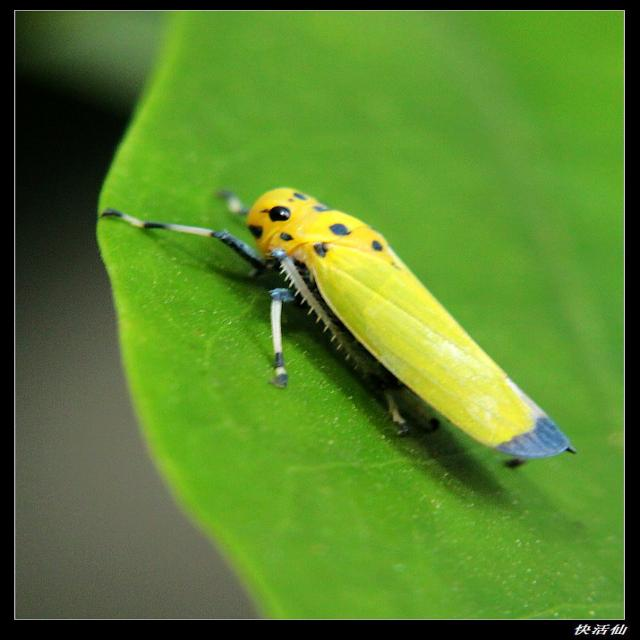Yechan: (184, 173, 593, 472)
